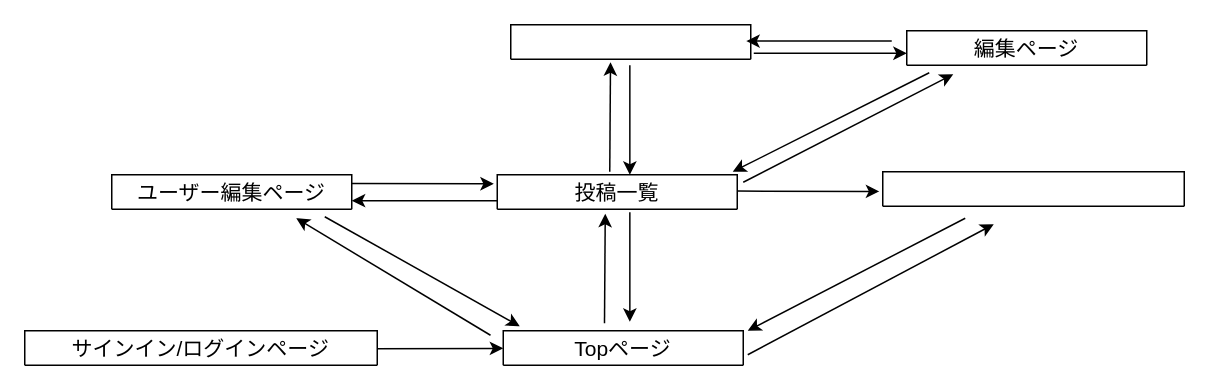
Image size: 1209x390. Some labels were removed from this diagram. Here are the shapes that lost their labels. From the top down, the box of each, then its label:
(509, 23, 751, 59): 詳細ページ
(881, 170, 1184, 206): 投稿ルーム作成ページ
